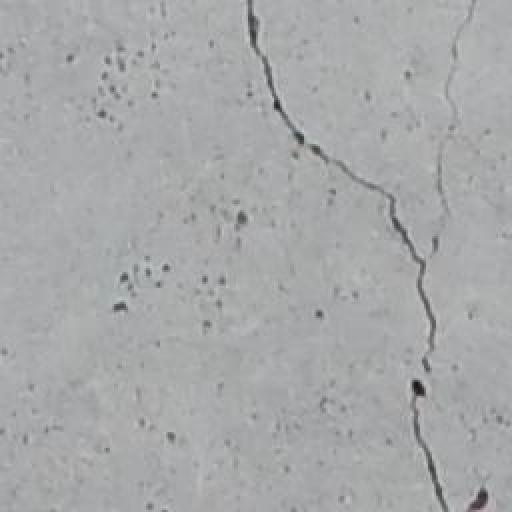spalling: (236, 4, 457, 505)
